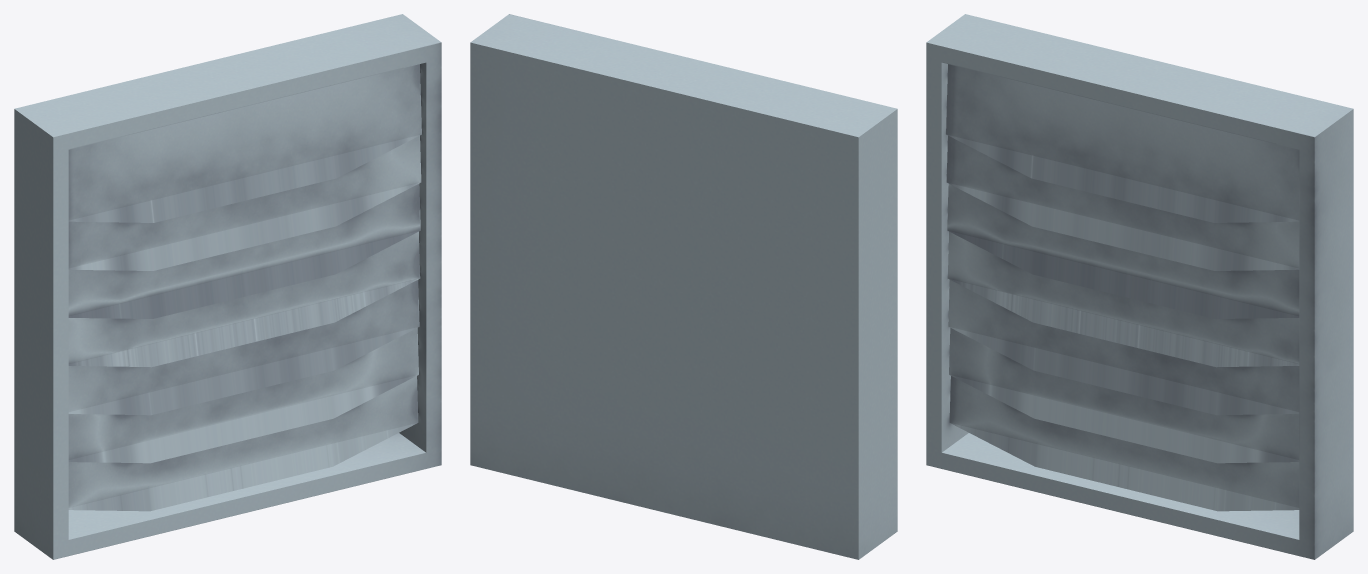
The model's file is Vent_clutter.fbx.
3 renders of one model, left to right at view 1: azimuth 30°, elevation 25°; view 2: azimuth 150°, elevation 25°; view 3: azimuth 330°, elevation 25°, orthographic.
Visible parts, largest first — view 1: Plane; view 2: Plane; view 3: Plane.
Part boxes in pixels (x1,y1,x2,y2): Plane: (14,14,441,559); Plane: (470,14,897,559); Plane: (926,14,1353,559).
Size of the model in its own units: 100 by 104 by 17.38.
Materials: 1 (1 with a texture image).
